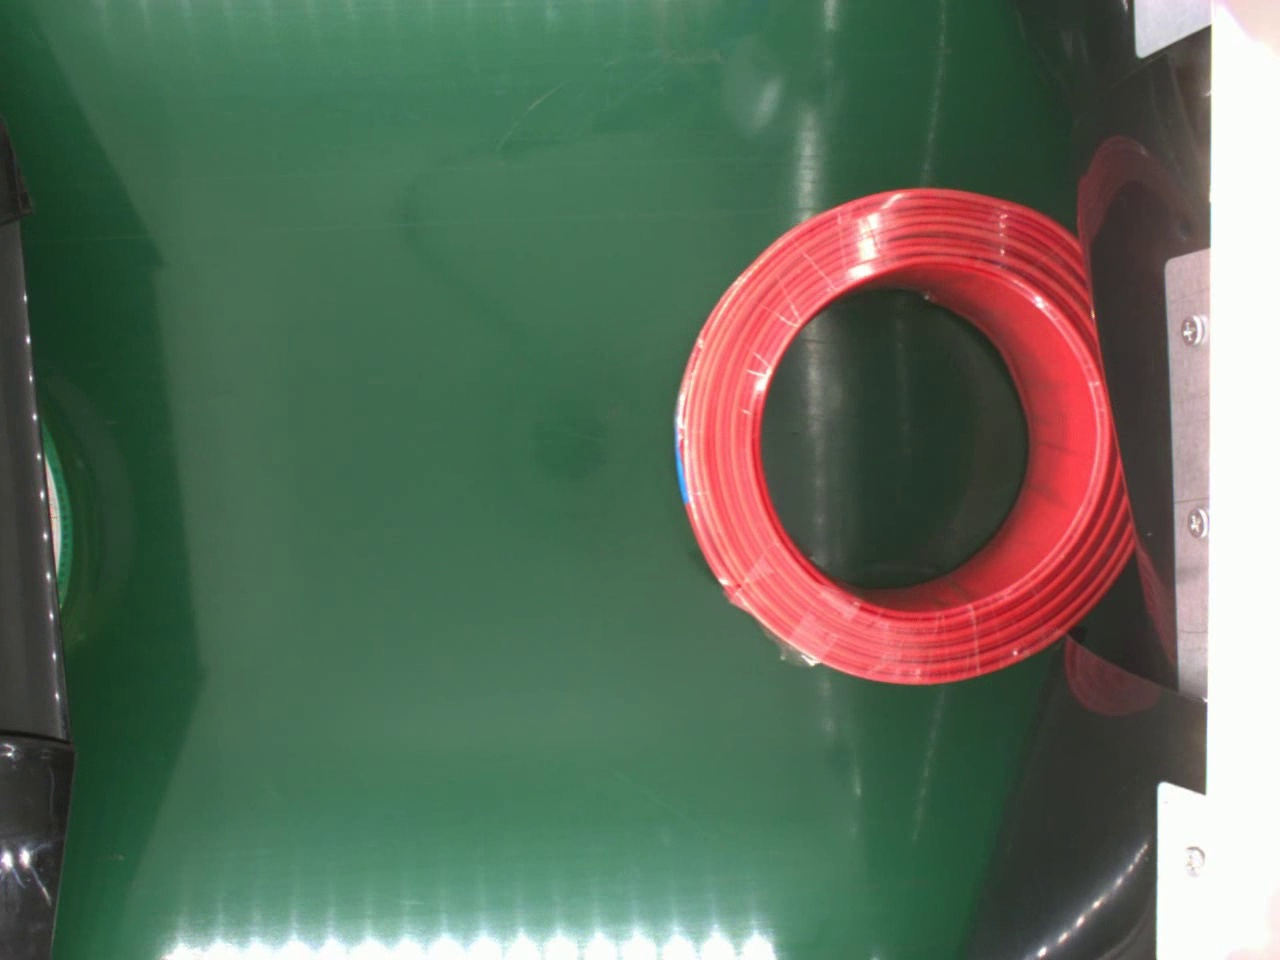red: (670, 184, 1135, 690)
